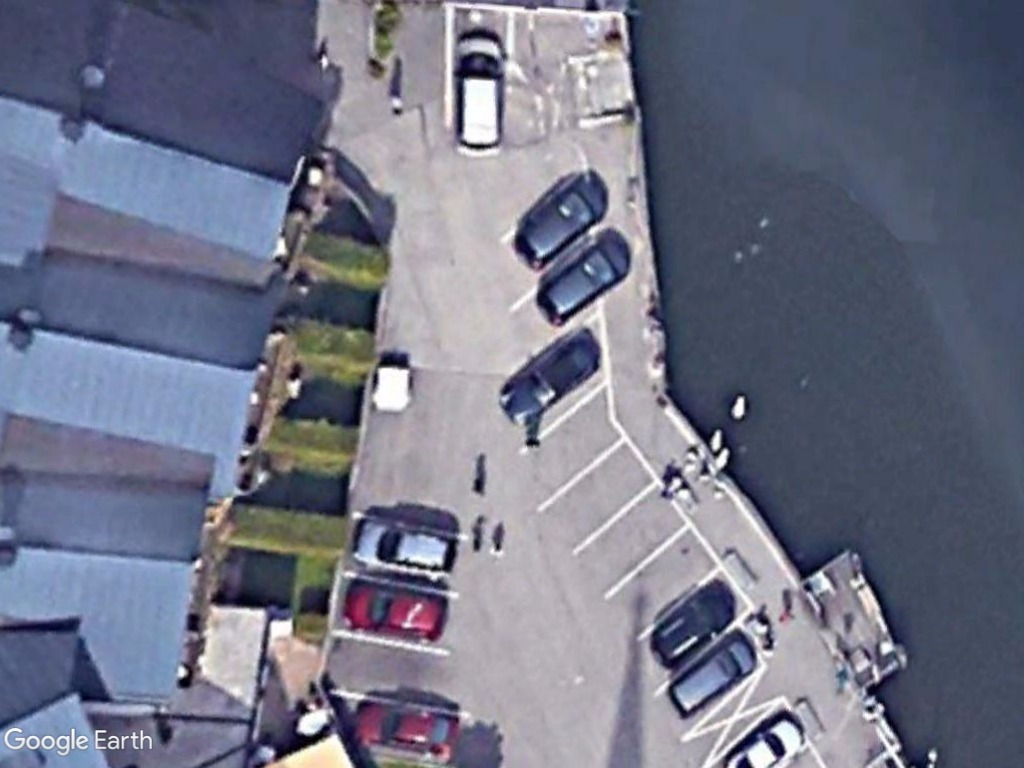car: (530, 226, 642, 327), (494, 329, 605, 430), (511, 173, 613, 271), (346, 508, 471, 586), (644, 579, 746, 673), (444, 24, 511, 166), (663, 632, 762, 725), (347, 692, 465, 768), (338, 578, 454, 646)
